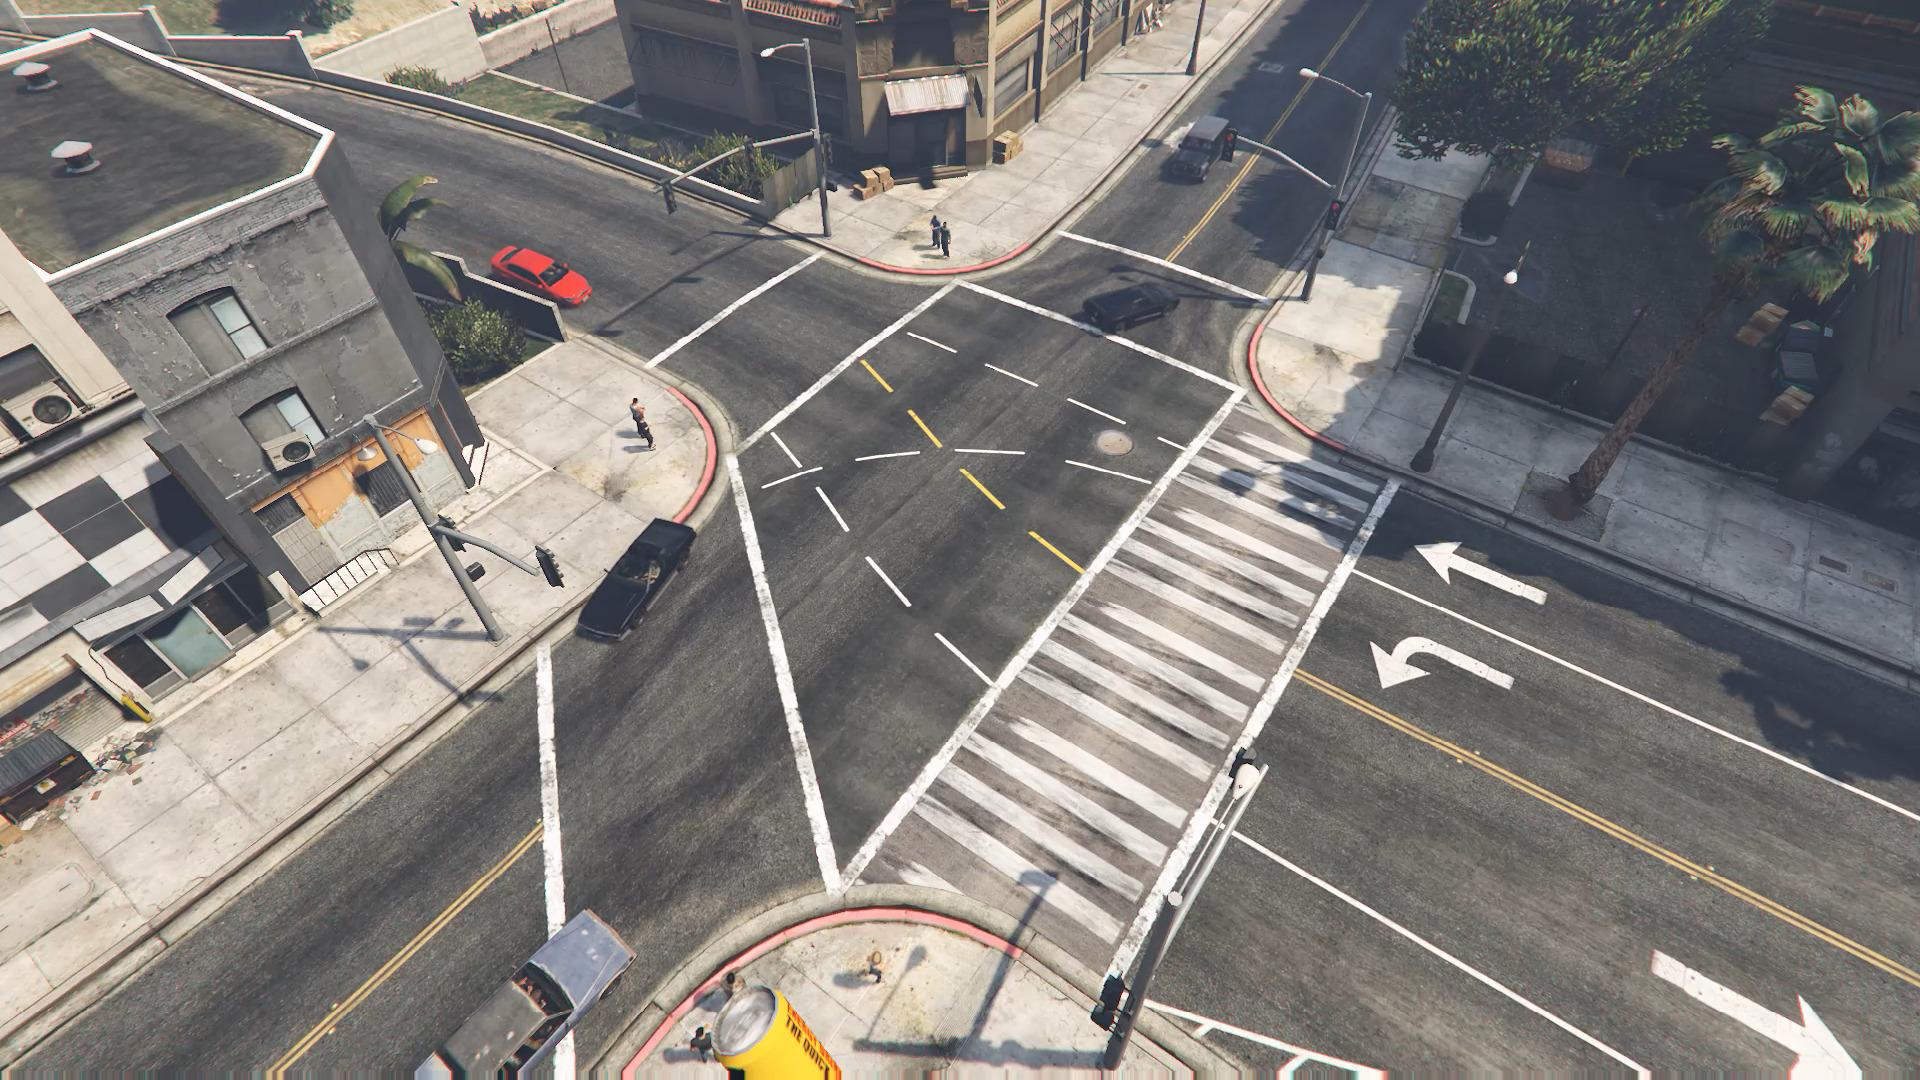car: (413, 907, 637, 1079), (575, 517, 698, 642), (489, 243, 592, 307), (1081, 281, 1178, 334), (1170, 113, 1236, 182)
